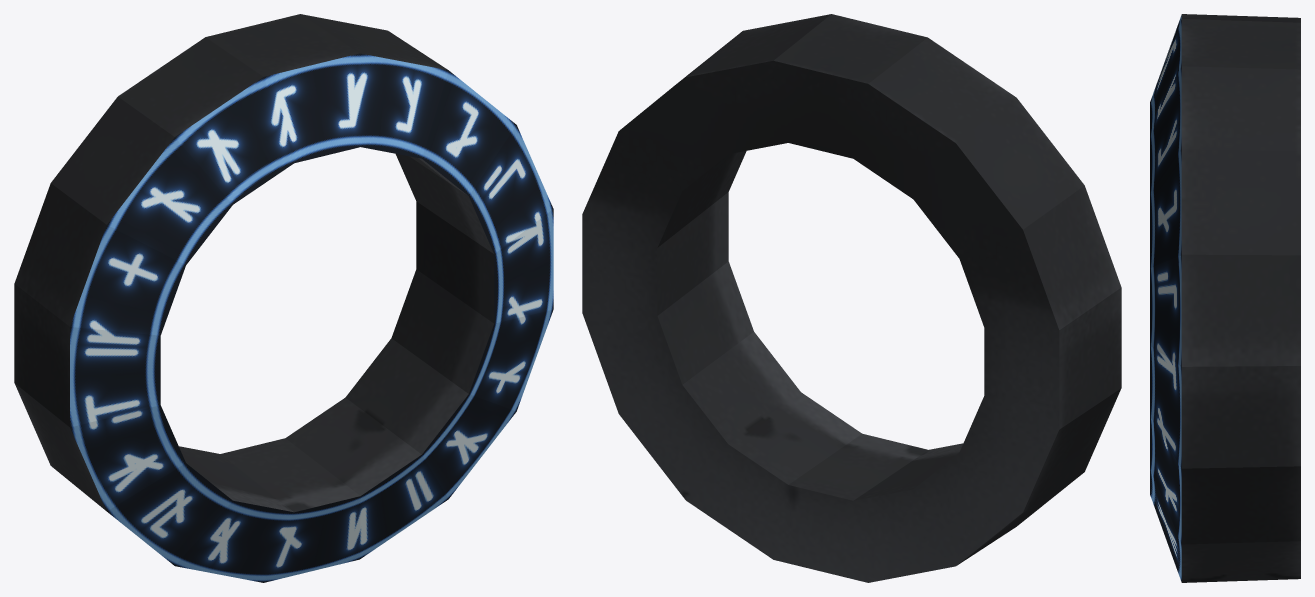
File: Truthguard_Ring.obj
3 views of the same model, side by side, from view 1: azimuth 30°, elevation 25°; view 2: azimuth 150°, elevation 25°; view 3: azimuth 270°, elevation 25° (orthographic).
Visible parts, largest first — view 1: Truthguard_Ring; view 2: Truthguard_Ring; view 3: Truthguard_Ring.
Boxes of the visible parts, left/top/right/bottom form: Truthguard_Ring: left=14, top=14, right=553, bottom=582; Truthguard_Ring: left=582, top=14, right=1121, bottom=582; Truthguard_Ring: left=1150, top=14, right=1300, bottom=582.
Bounding box in the file's own units: 0.2844 × 0.2844 × 0.076.
Materials: 2 (2 with a texture image).
